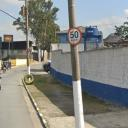speed_limit_50: (67, 27, 82, 46)
